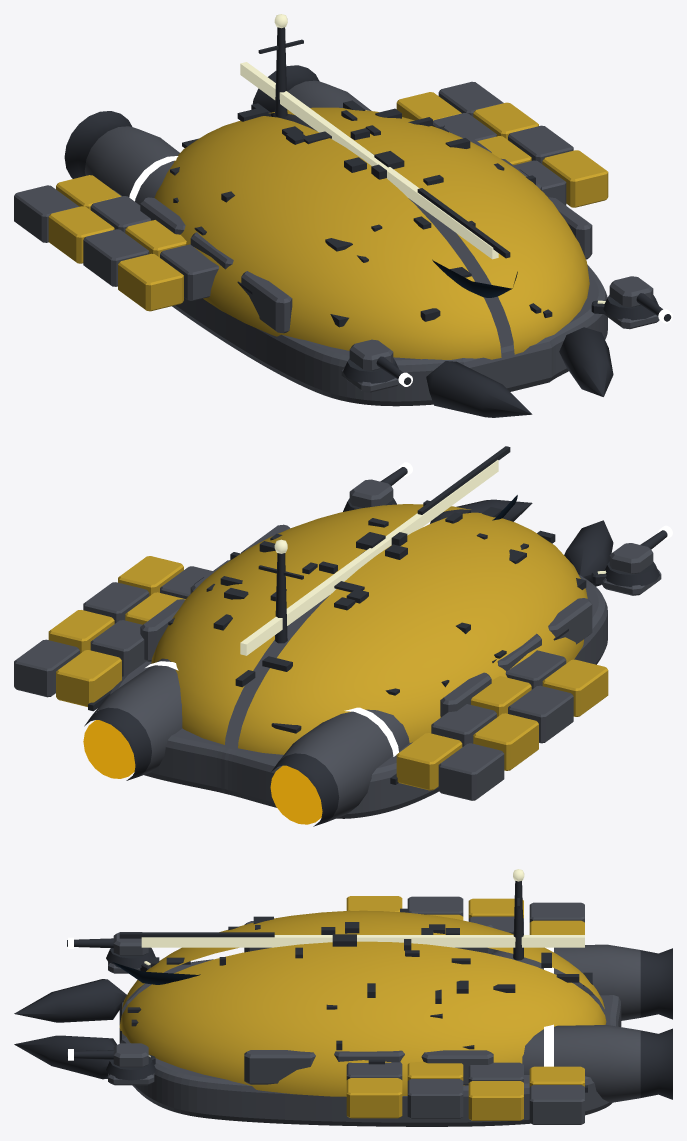
The model's file is ship_prospector.glb.
3 renders of one model, top to bottom at view 1: azimuth 30°, elevation 25°; view 2: azimuth 150°, elevation 25°; view 3: azimuth 270°, elevation 25°, orthographic. The views are drawn at different scales.
Parts seen in each view (by area): view 1: primary, secondary, trim, glow, glass, accent; view 2: primary, secondary, trim, engine, glow, accent; view 3: primary, secondary, trim, glow, glass, accent.
Boxes of the visible parts, x1=… form: primary: x1=48, y1=92, x2=608, y2=359; secondary: x1=14, y1=80, x2=659, y2=406; trim: x1=64, y1=27, x2=671, y2=417; glow: x1=240, y1=14, x2=605, y2=303; glass: x1=432, y1=259, x2=517, y2=297; accent: x1=129, y1=110, x2=672, y2=386; primary: x1=48, y1=504, x2=608, y2=790; secondary: x1=14, y1=479, x2=661, y2=822; trim: x1=84, y1=446, x2=667, y2=826; engine: x1=83, y1=720, x2=322, y2=824; glow: x1=240, y1=460, x2=606, y2=655; accent: x1=145, y1=462, x2=672, y2=756; primary: x1=119, y1=896, x2=606, y2=1120; secondary: x1=108, y1=896, x2=640, y2=1126; trim: x1=14, y1=881, x2=672, y2=1099; glow: x1=141, y1=869, x2=584, y2=1057; glass: x1=112, y1=962, x2=200, y2=984; accent: x1=68, y1=937, x2=553, y2=1066.
Bounding box in the file's own units: 3.56 × 1.6 × 4.99.
